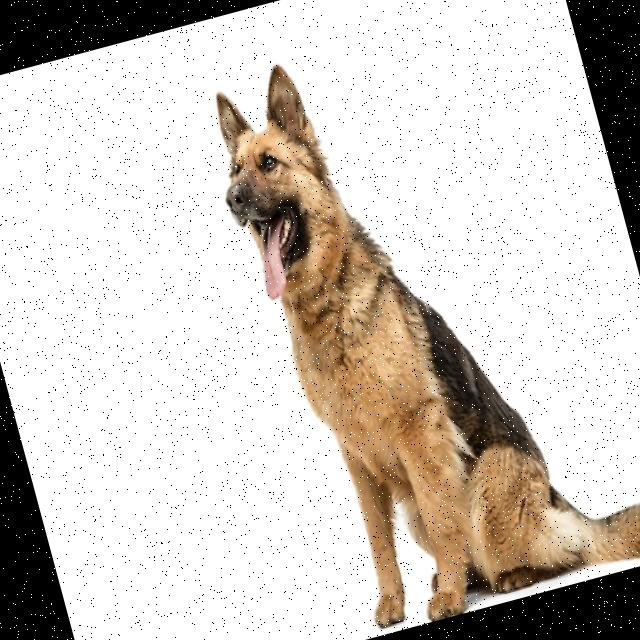Dog: (192, 0, 640, 640)
